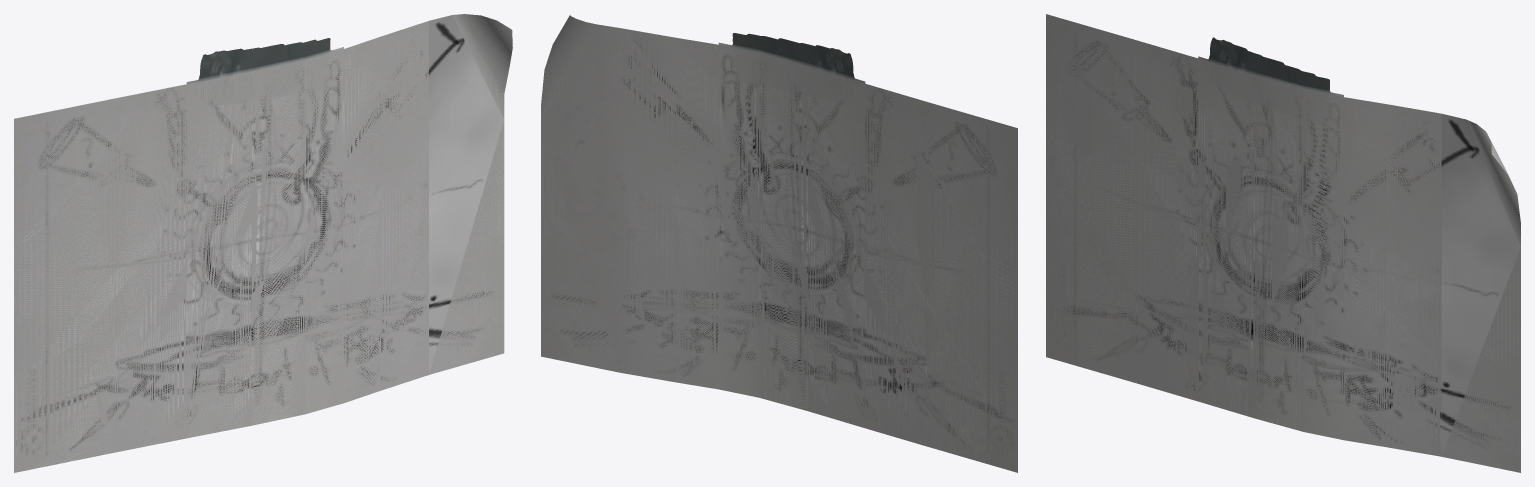
The model's file is notes_herber_alpha.dae.
3 views of the same model, side by side, from view 1: azimuth 30°, elevation 25°; view 2: azimuth 150°, elevation 25°; view 3: azimuth 330°, elevation 25° (orthographic). The views are drawn at different scales.
Parts seen in each view (by area): view 1: alpha; view 2: alpha; view 3: alpha.
Boxes of the visible parts, <box> form: alpha: <box>14,14,512,472</box>; alpha: <box>541,15,1017,472</box>; alpha: <box>1046,14,1520,472</box>.
Bounding box in the file's own units: 0.3508 × 0.2632 × 0.0235.
